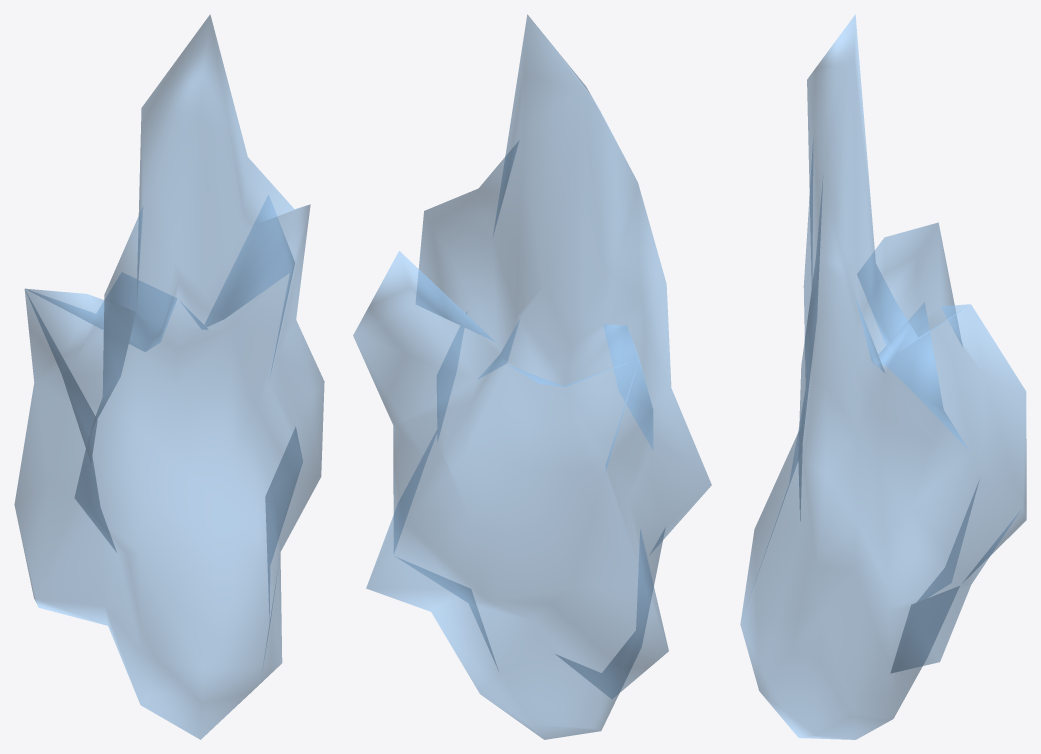
The model's file is meyestalk_shield.gltf.
3 renders of one model, left to right at view 1: azimuth 30°, elevation 25°; view 2: azimuth 150°, elevation 25°; view 3: azimuth 270°, elevation 25°, orthographic. The views are drawn at different scales.
Visible parts, largest first — view 1: meyestalk.shield; view 2: meyestalk.shield; view 3: meyestalk.shield.
Boxes of the visible parts, bbox=[...] form: meyestalk.shield: bbox=[14, 14, 324, 739]; meyestalk.shield: bbox=[353, 14, 711, 739]; meyestalk.shield: bbox=[740, 14, 1026, 739].
Bounding box in the file's own units: 24.24 × 57.07 × 19.93.
